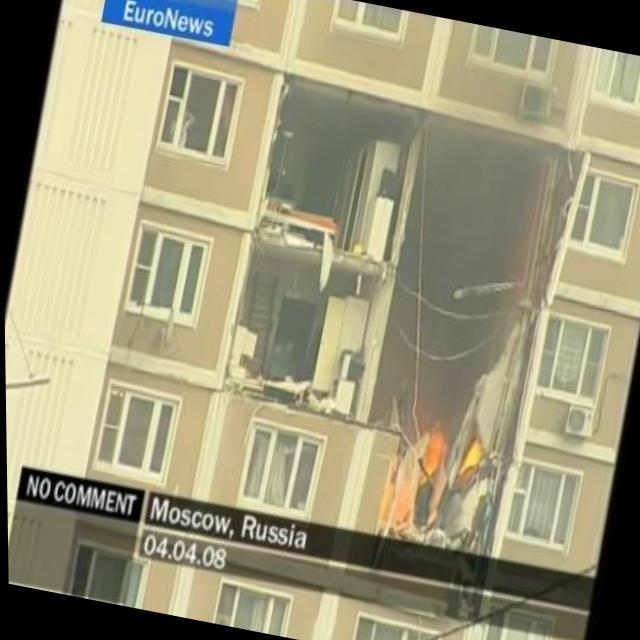fire: (411, 416, 456, 492), (459, 432, 488, 482)
